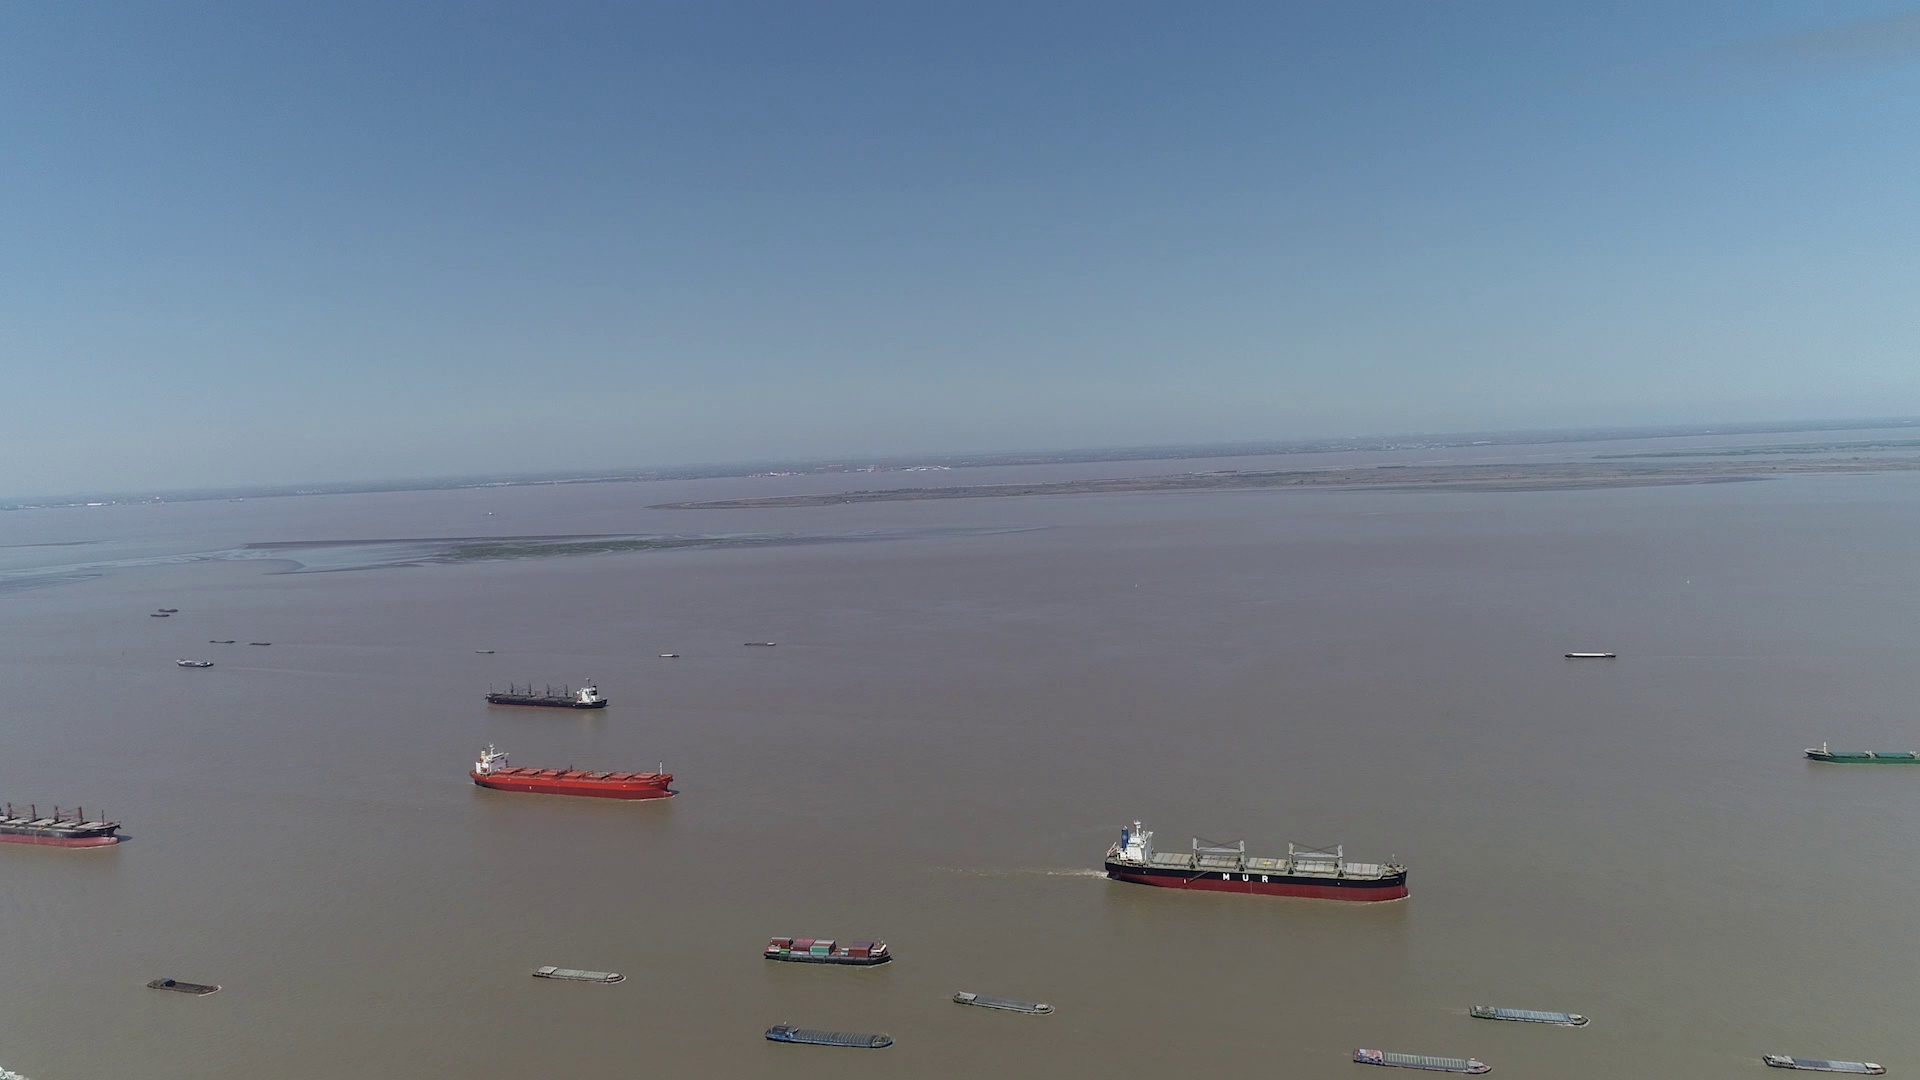ship: (1102, 820, 1412, 903), (465, 742, 670, 799), (0, 787, 121, 848), (752, 949, 901, 986), (1352, 1044, 1489, 1075), (761, 935, 891, 967), (484, 679, 609, 711), (765, 1025, 895, 1048), (1469, 1004, 1586, 1029), (1764, 1051, 1886, 1073), (1804, 742, 1917, 764), (956, 992, 1054, 1015), (531, 965, 626, 985), (146, 978, 219, 996), (1564, 650, 1615, 658), (177, 659, 214, 669)
